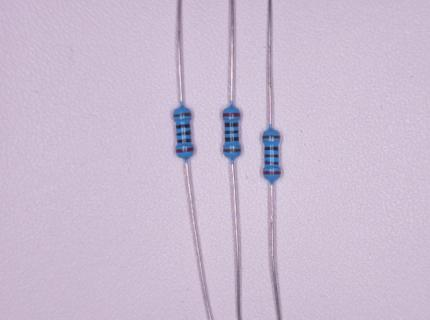Black band: (176, 130, 191, 136), (176, 124, 191, 129), (224, 122, 239, 127), (264, 160, 279, 165), (225, 130, 239, 135), (225, 136, 239, 141), (177, 139, 192, 143), (265, 154, 279, 158), (264, 147, 279, 150)
Brown band: (173, 112, 192, 117), (263, 135, 280, 139), (223, 149, 241, 152)
Red band: (176, 147, 194, 153), (223, 113, 241, 117), (263, 171, 281, 175)
